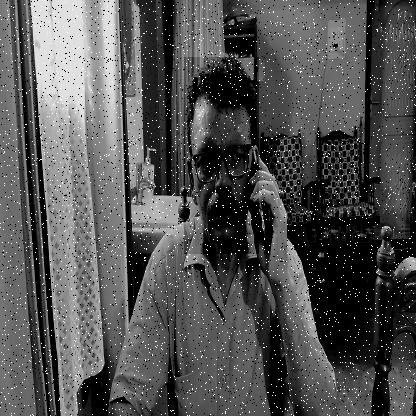Normal: (184, 57, 259, 254)
